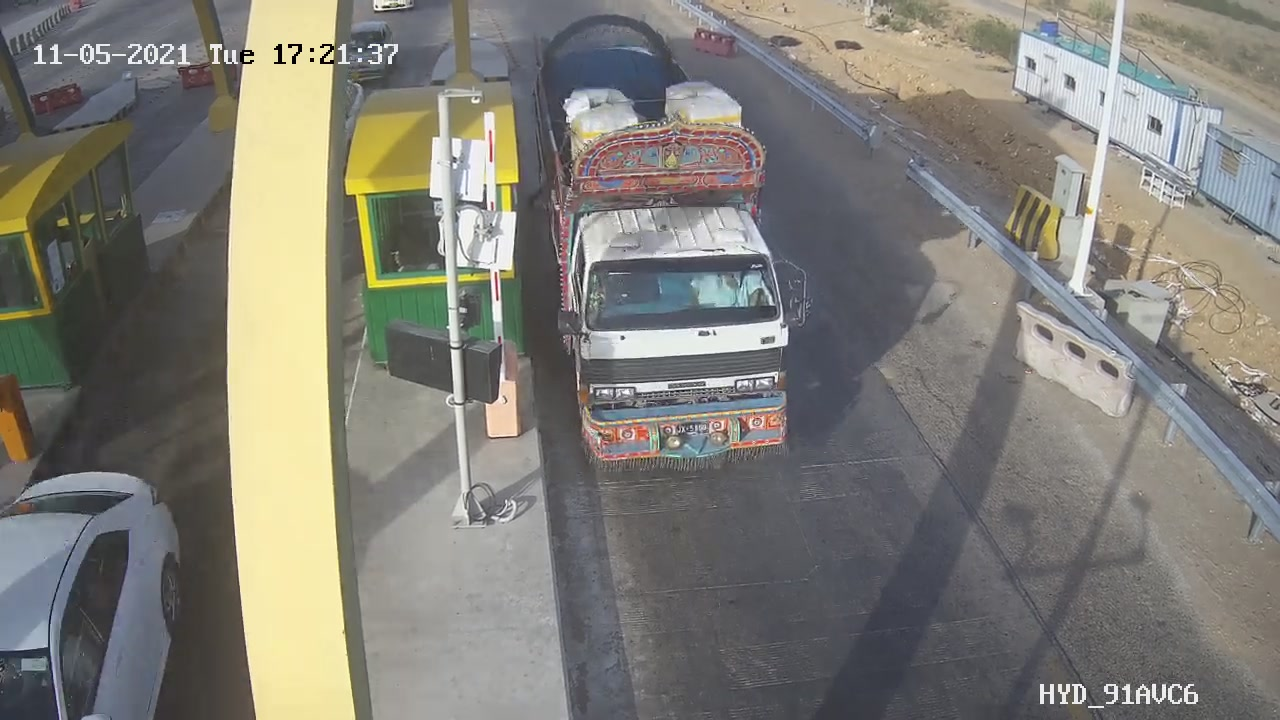F5: (516, 8, 842, 490)
